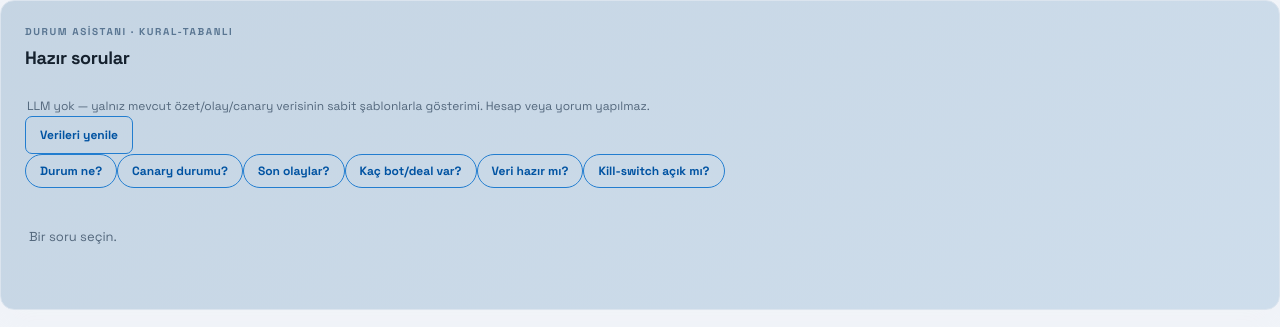
it: AssistantPanel › canary-durumu sorusu kill-switch ve onay durumunu gösterir
Step 1. Click the button "Canary durumu?" → x=180, y=171, box x1=117 y1=154 x2=243 y2=188
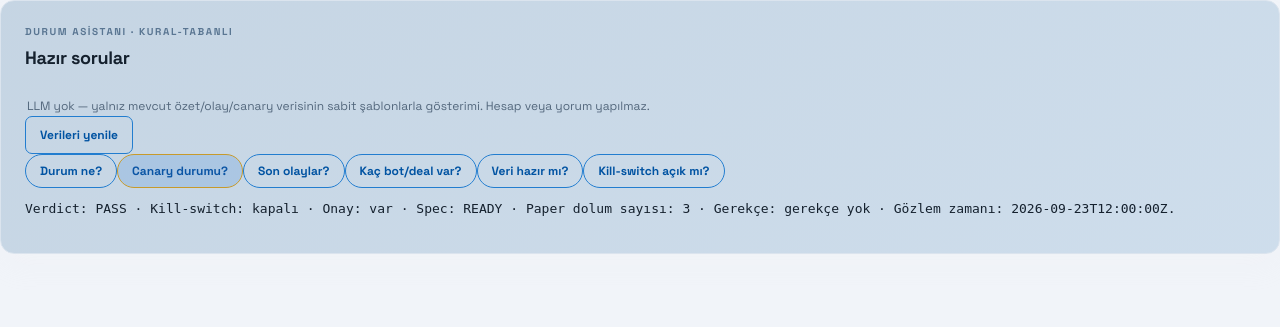
Result: the text "Onay: var" is shown at x1=25 y1=201 x2=1176 y2=216
